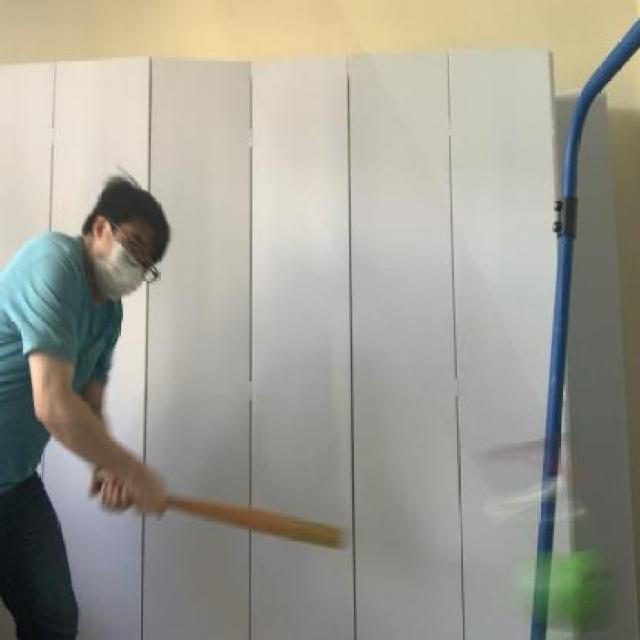baseball: (513, 520, 635, 640)
